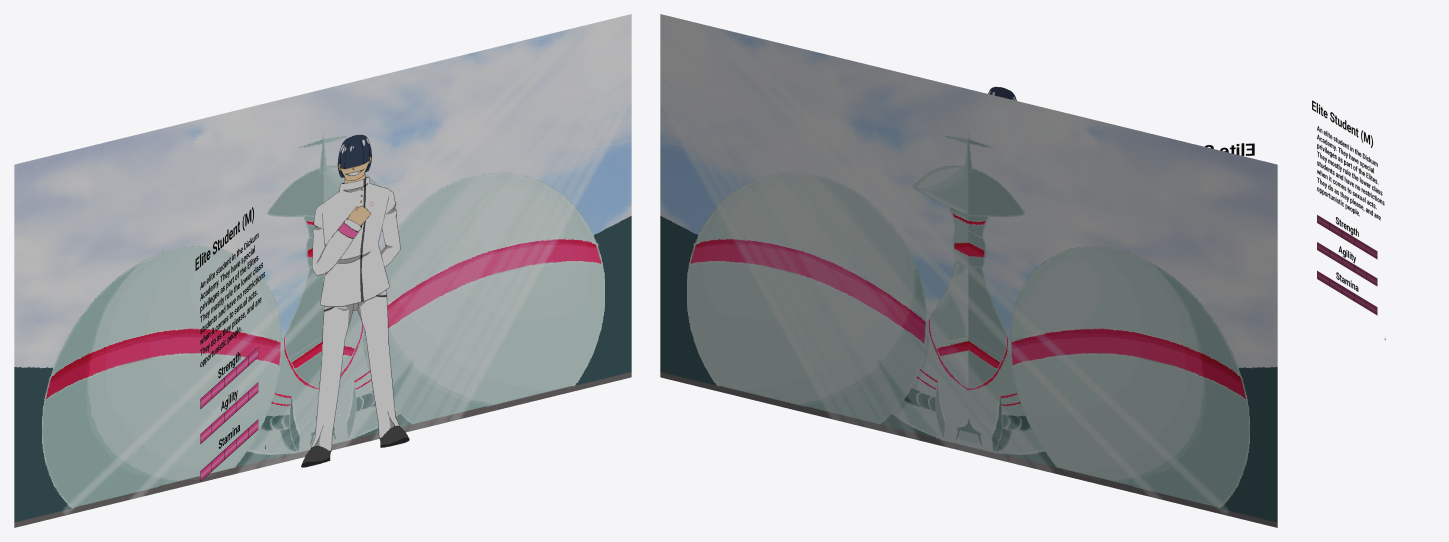
The model's file is ultra.glb.
The picture shows the model from 3 angles, left to right: view 1: azimuth 30°, elevation 25°; view 2: azimuth 150°, elevation 25°; view 3: azimuth 270°, elevation 25°; orthographic projection. The views are drawn at different scales.
Parts seen in each view (by area): view 1: DIckCum Academy, Elite 1 v2 Transparent, Sheet Transparent; view 2: DIckCum Academy; view 3: Sheet Transparent.
Part boxes in pixels (x1,y1,x2,y2): DIckCum Academy: [14, 14, 631, 527]; Elite 1 v2 Transparent: [301, 134, 409, 467]; Sheet Transparent: [195, 207, 265, 481]; DIckCum Academy: [660, 14, 1277, 527]; Sheet Transparent: [1312, 100, 1385, 339].
Bounding box in the file's own units: 8.21 × 4.62 × 1.91.
3 materials, 3 textured.
